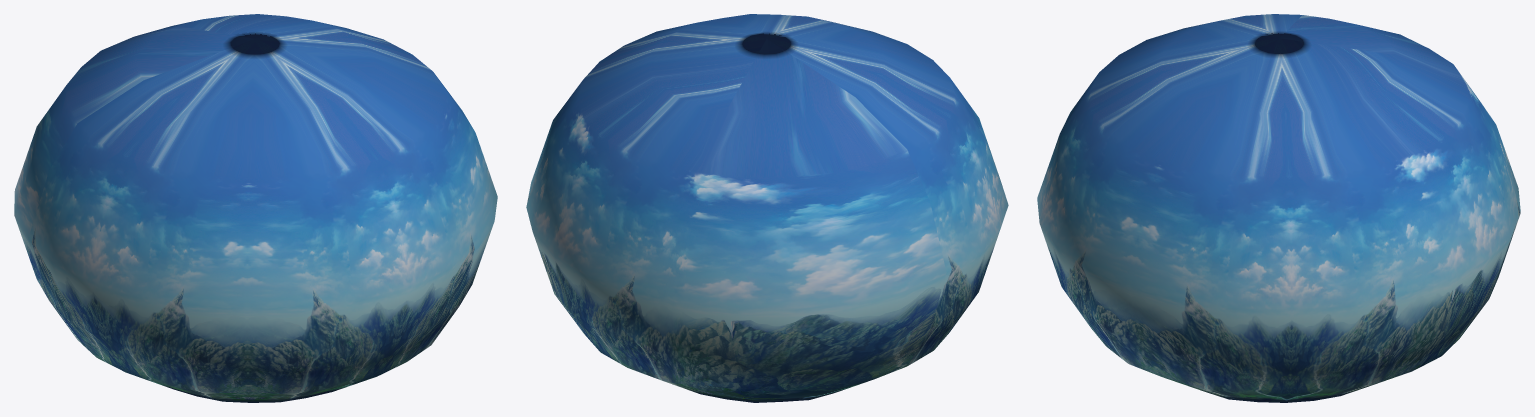
File: Blue_Sky.FBX
3 renders of one model, left to right at view 1: azimuth 30°, elevation 25°; view 2: azimuth 150°, elevation 25°; view 3: azimuth 270°, elevation 25°, orthographic.
Visible parts, largest first — view 1: Blue_Sky; view 2: Blue_Sky; view 3: Blue_Sky.
Part boxes in pixels (bbox=[...]): Blue_Sky: bbox=[14, 14, 497, 402]; Blue_Sky: bbox=[526, 14, 1008, 402]; Blue_Sky: bbox=[1037, 14, 1520, 402].
Bounding box in the file's own units: 24352 × 18378 × 24421.
Materials: 1 (1 with a texture image).
